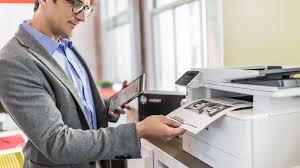printer: (164, 64, 299, 167)
